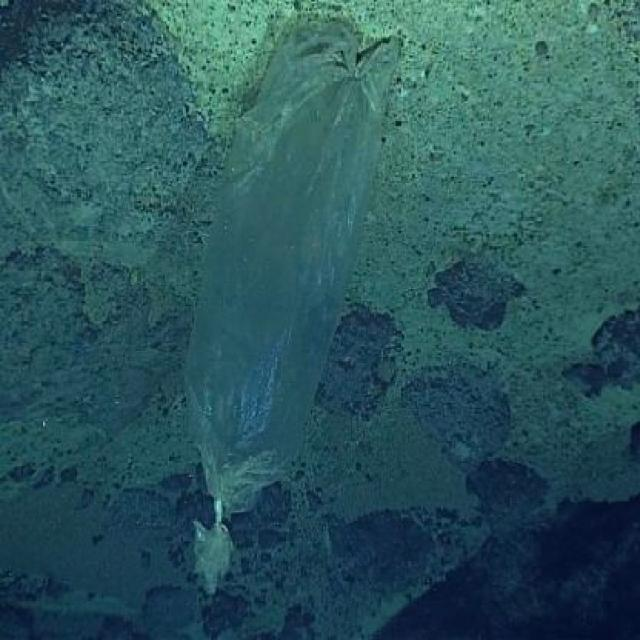pbag: (180, 20, 402, 602)
